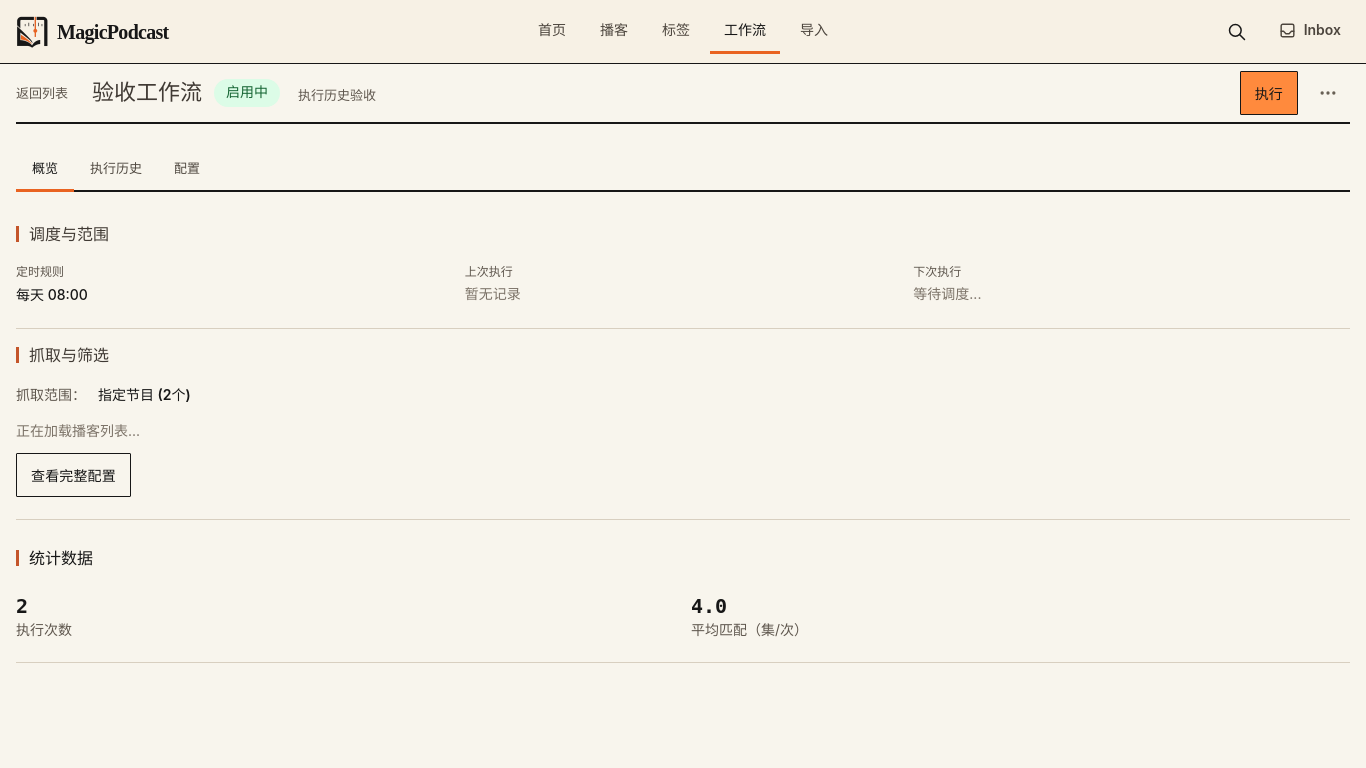
工作流执行历史可见等待验收 (#34) › 冷态摘要响应到达后 ≤100ms 完成渲染
Click the tab "执行历史" at (116, 170), box left=74, top=148, right=158, bottom=192
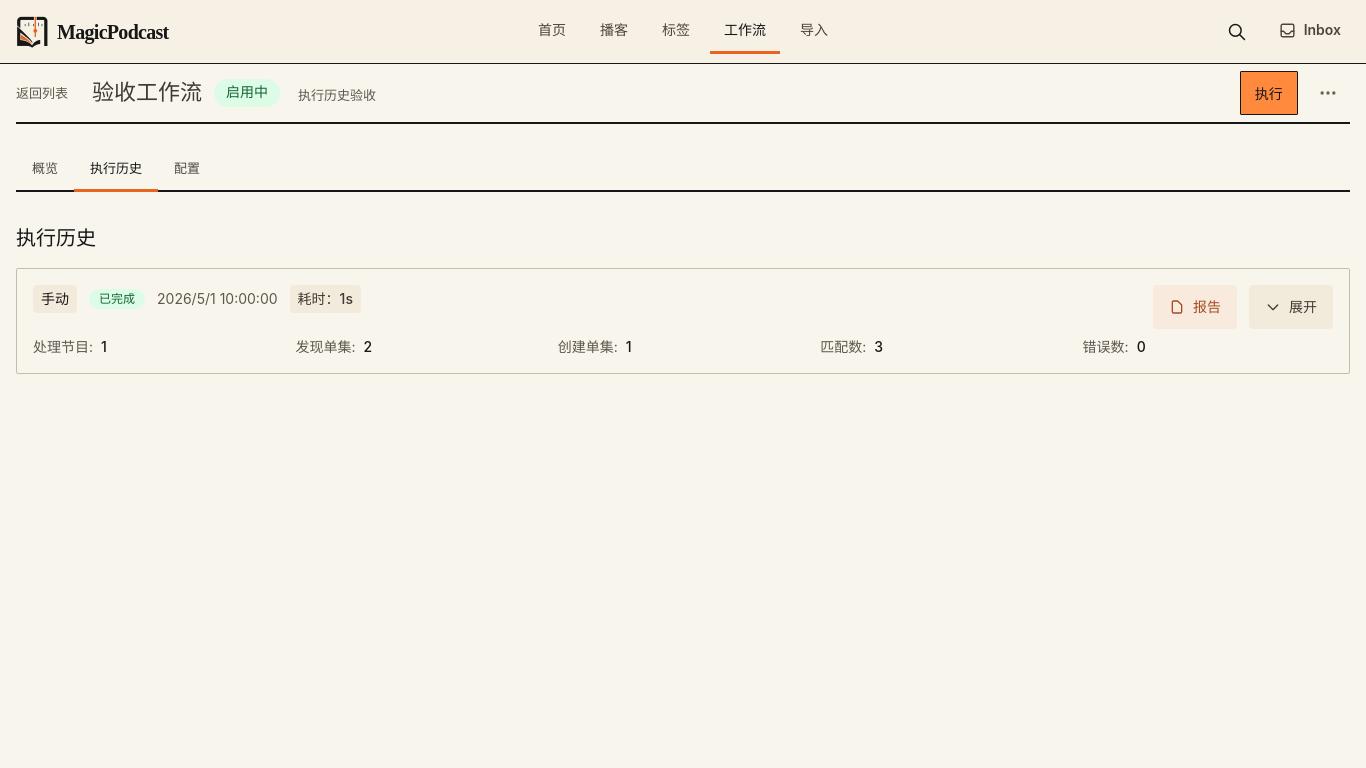
expect the text "正在加载执行历史..." is shown: met, box left=16, top=268, right=1350, bottom=374
